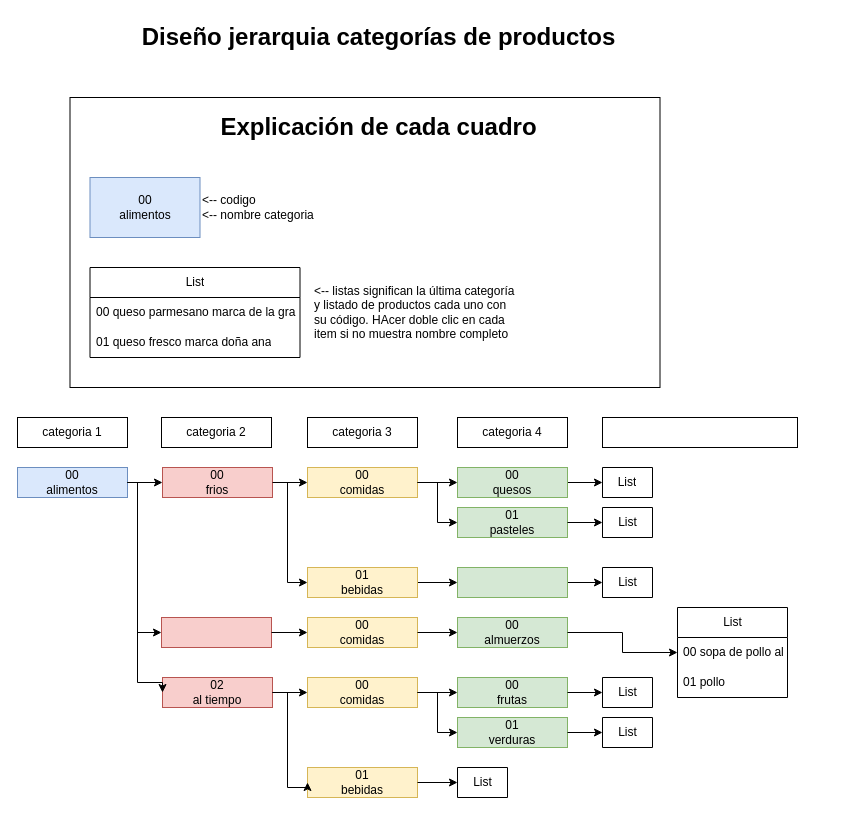
Image size: 846x815. Some labels were removed from this diagram. Each missing label, with the centre of its shape:
"00 gaseosas" belongs at pixel 512 582.
"01 congelados" belongs at pixel 216 632.
"categoria 5" belongs at pixel 700 432.
